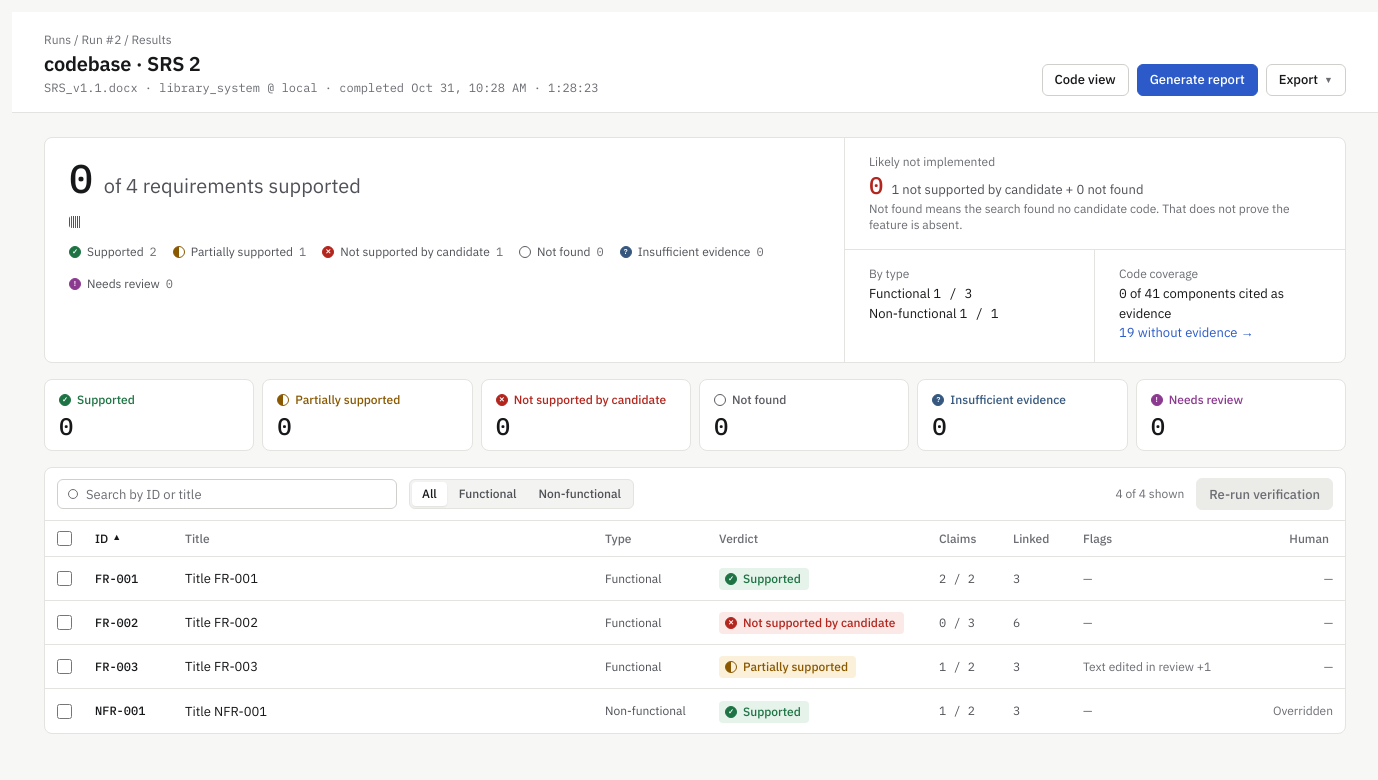
Results page › summary, cards filter the table, rows open the requirement
Expected: the text "4 of 4 shown" is shown, x1=1115 y1=486 x2=1184 y2=502
Expected: the text "Text edited in review +1" is shown, x1=1083 y1=659 x2=1211 y2=674
Click the button "✕ Not supported by candidate 0" at (586, 415), box x1=481 y1=379 x2=691 y2=451
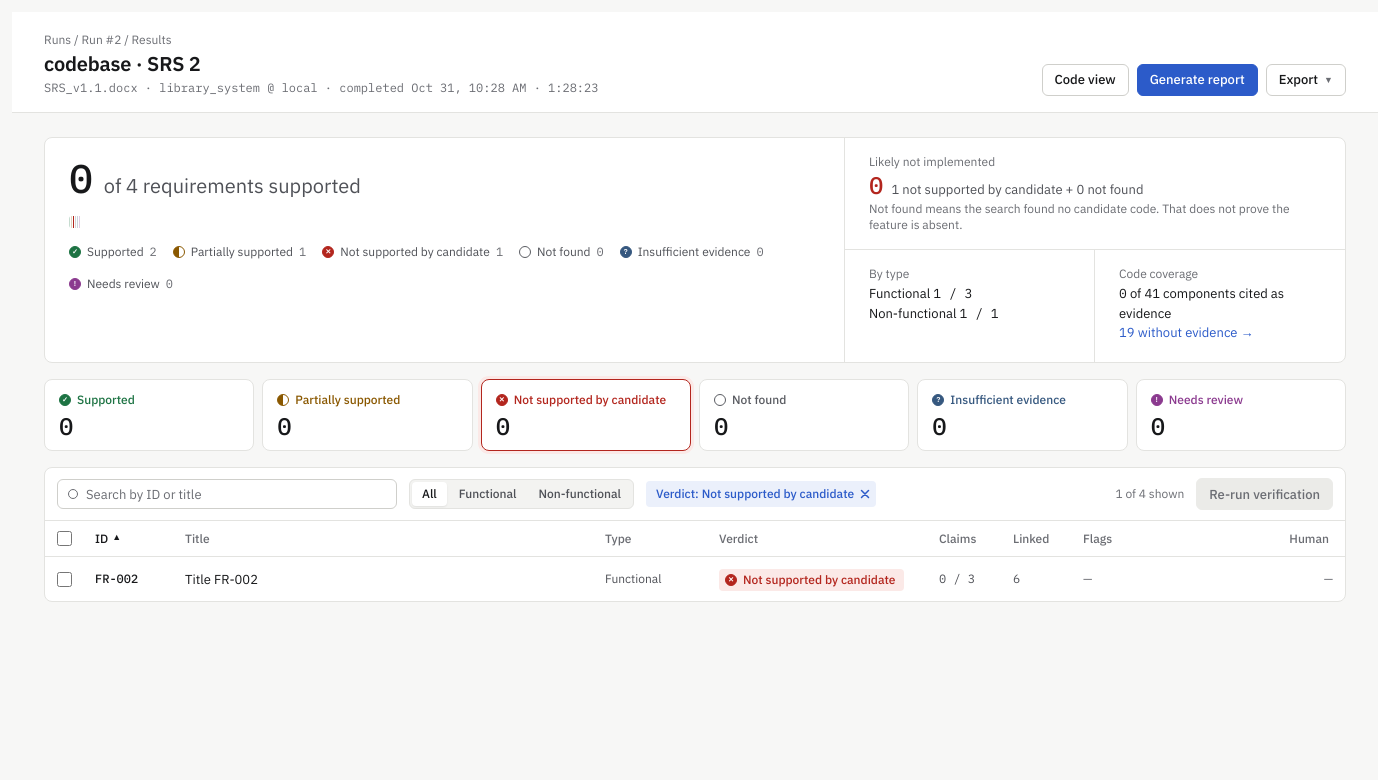
Expected: the text "1 of 4 shown" is shown, x1=1115 y1=486 x2=1184 y2=502
Expected: the text "Verdict: Not supported by candidate" is shown, x1=646 y1=481 x2=876 y2=507
Click the button named "Clear verdict filter" at (865, 494), box x1=860 y1=489 x2=870 y2=499
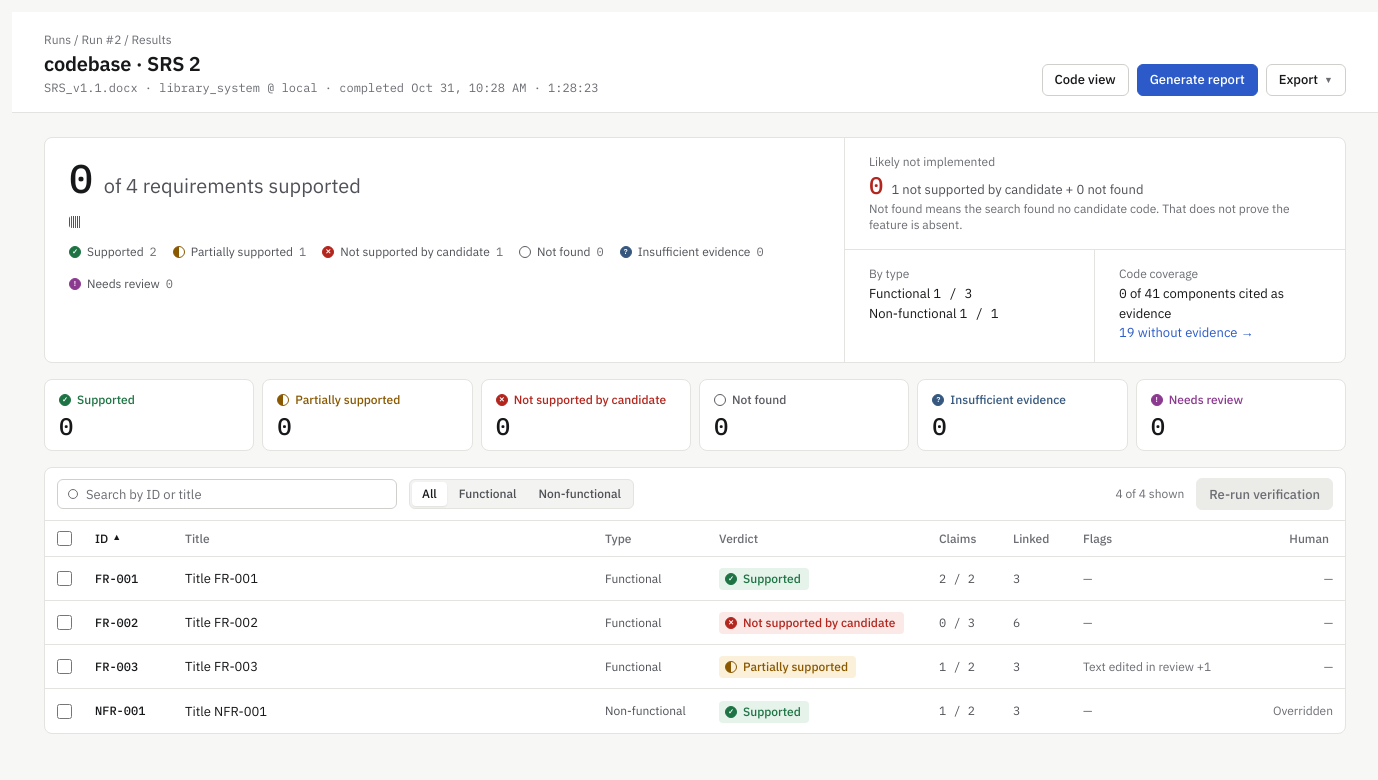
Type "zzz" into the field named "Search requirements" at (236, 494), box x1=86 y1=485 x2=386 y2=504
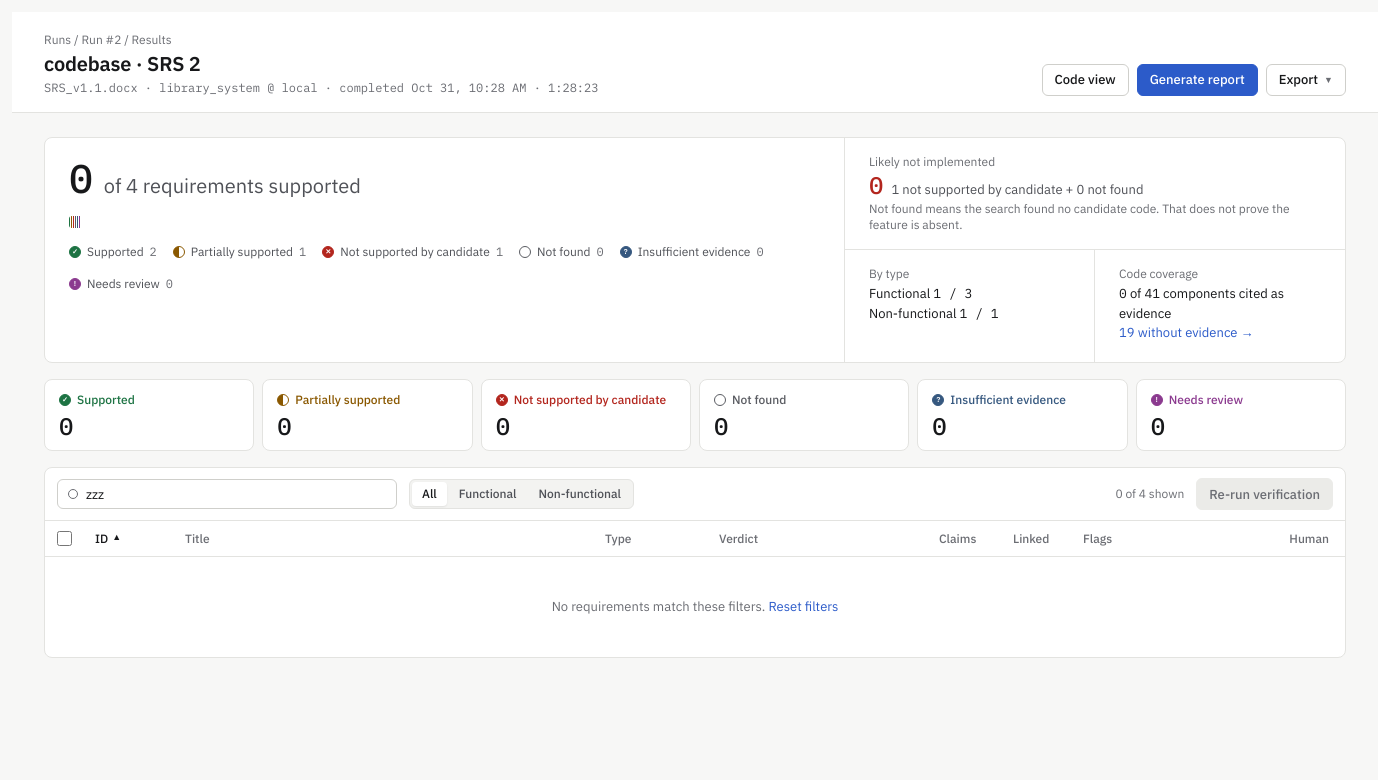
Expected: the text "No requirements match these filters. Reset filters" is shown, x1=552 y1=597 x2=838 y2=617
Click the button "Reset filters" at (803, 607), box x1=768 y1=597 x2=838 y2=617
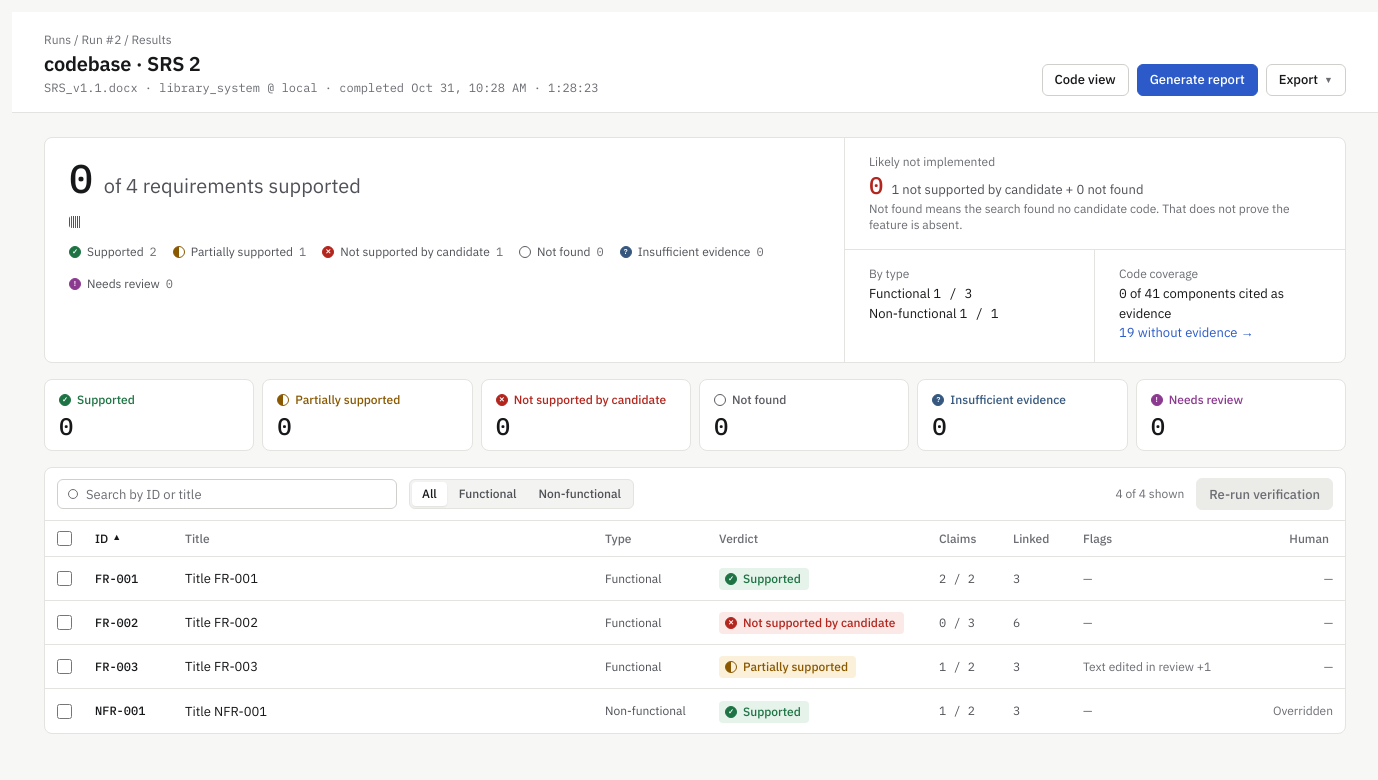
Click the text "Title FR-003" at (222, 667), box x1=185 y1=658 x2=258 y2=675
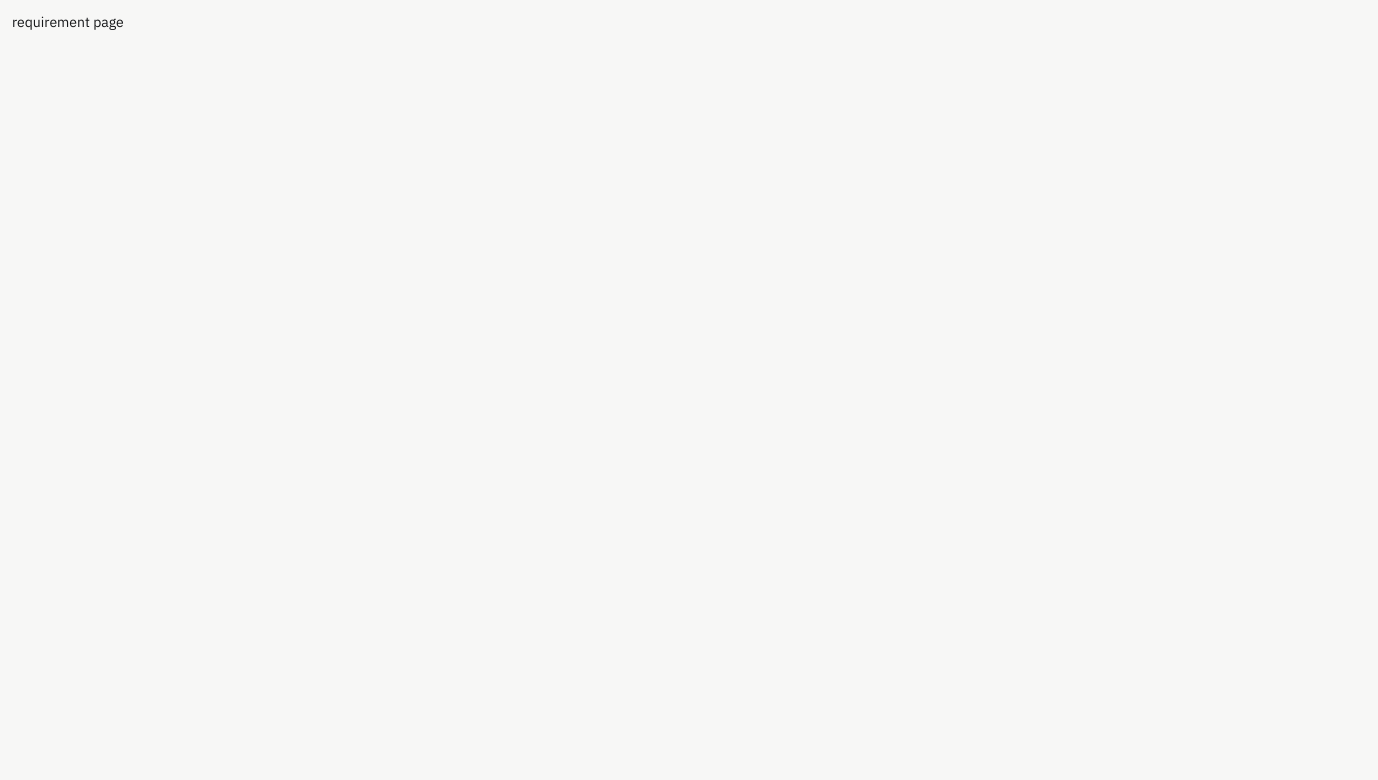
Expected: the text "requirement page" is shown, x1=12 y1=13 x2=124 y2=31
